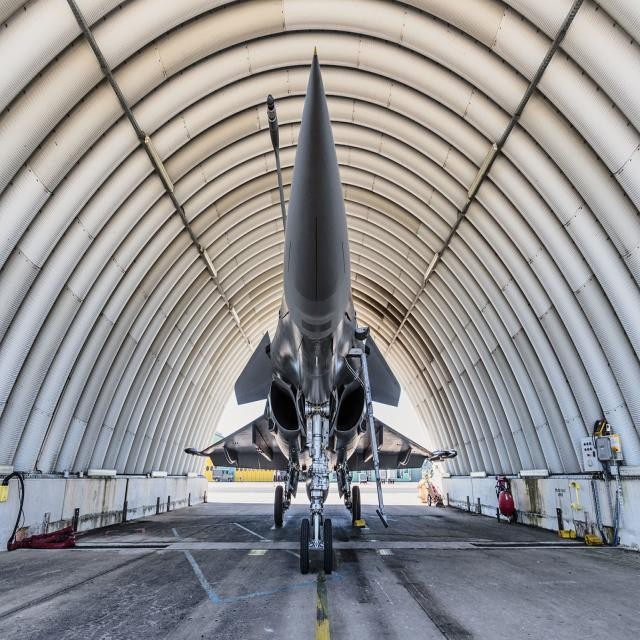MIL_Plane: (184, 46, 458, 573)
